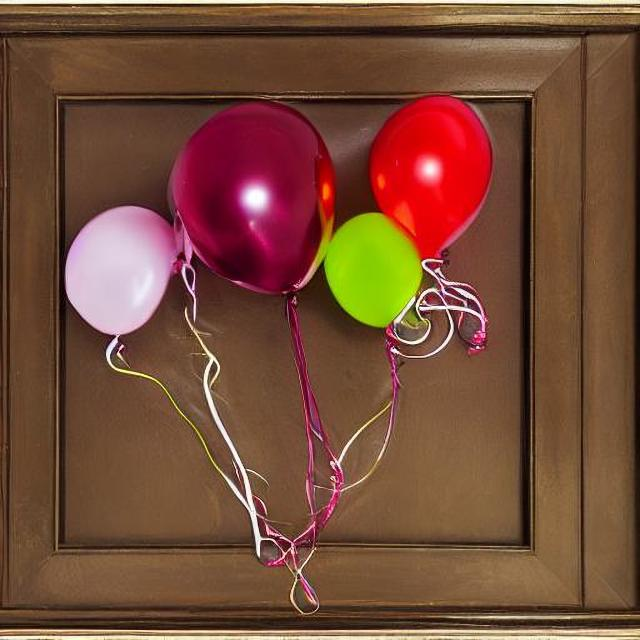balloon: (336, 86, 498, 352), (170, 94, 330, 302), (52, 198, 176, 350)
